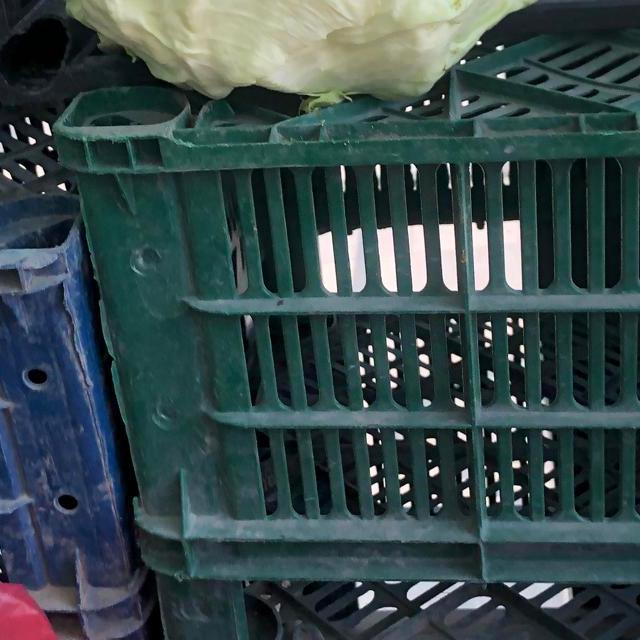cabbage: (0, 0, 607, 122)
